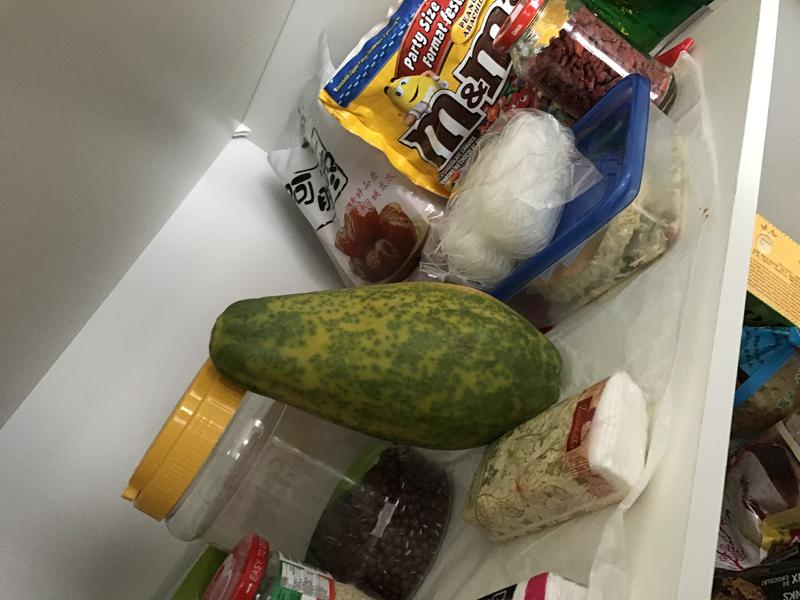papaya: (201, 273, 573, 455)
